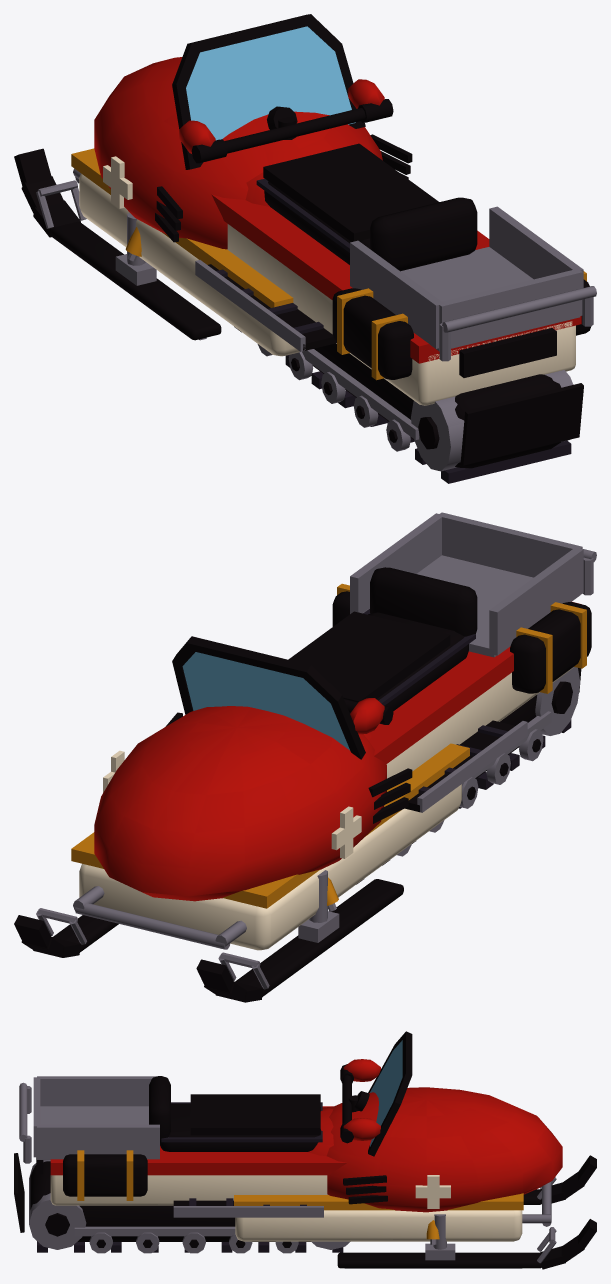
File: rs_sled.glb
3 renders of one model, top to bottom at view 1: azimuth 30°, elevation 25°; view 2: azimuth 150°, elevation 25°; view 3: azimuth 270°, elevation 25°, orthographic. The views are drawn at different scales.
Visible parts, largest first — view 1: sled_body, sled_ski_L; view 2: sled_body, sled_ski_L, sled_ski_R; view 3: sled_body, sled_ski_R, sled_ski_L.
Boxes of the visible parts, x1,y1,x2,y2 form: sled_body: (71, 14, 596, 483); sled_ski_L: (14, 148, 221, 340); sled_body: (71, 512, 596, 950); sled_ski_L: (196, 879, 403, 1002); sled_ski_R: (14, 908, 118, 957); sled_body: (14, 1031, 562, 1253); sled_ski_R: (337, 1219, 596, 1269); sled_ski_L: (523, 1155, 596, 1204).
Bounding box in the file's own units: 1.42 × 1.48 × 4.27.
